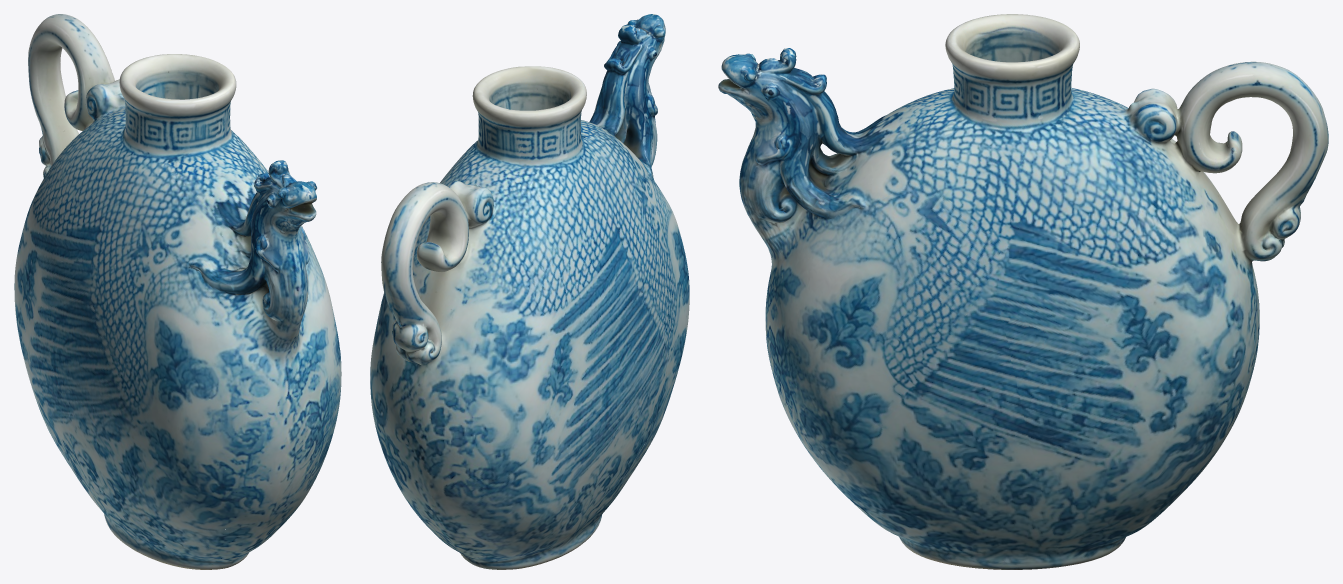
Rendered from phoenix-web-mobile.glb.
3 views of the same model, side by side, from view 1: azimuth 30°, elevation 25°; view 2: azimuth 150°, elevation 25°; view 3: azimuth 270°, elevation 25° (orthographic). The views are drawn at different scales.
Parts seen in each view (by area): view 1: tripo_node_07039654-0ade-49d4-918f-1af4125001a4; view 2: tripo_node_07039654-0ade-49d4-918f-1af4125001a4; view 3: tripo_node_07039654-0ade-49d4-918f-1af4125001a4.
Part boxes in pixels (<box>): tripo_node_07039654-0ade-49d4-918f-1af4125001a4: <box>14,14,341,569</box>; tripo_node_07039654-0ade-49d4-918f-1af4125001a4: <box>370,14,689,569</box>; tripo_node_07039654-0ade-49d4-918f-1af4125001a4: <box>718,14,1328,569</box>.
Bounding box in the file's own units: 0.4212 × 0.8936 × 0.9791.
Materials: 1 (1 with a texture image).
